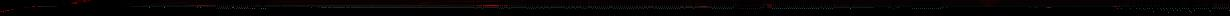Blue cone: (24, 7, 30, 8), (10, 9, 14, 10)
Yellow cone: (762, 4, 780, 7), (1210, 4, 1228, 7)
